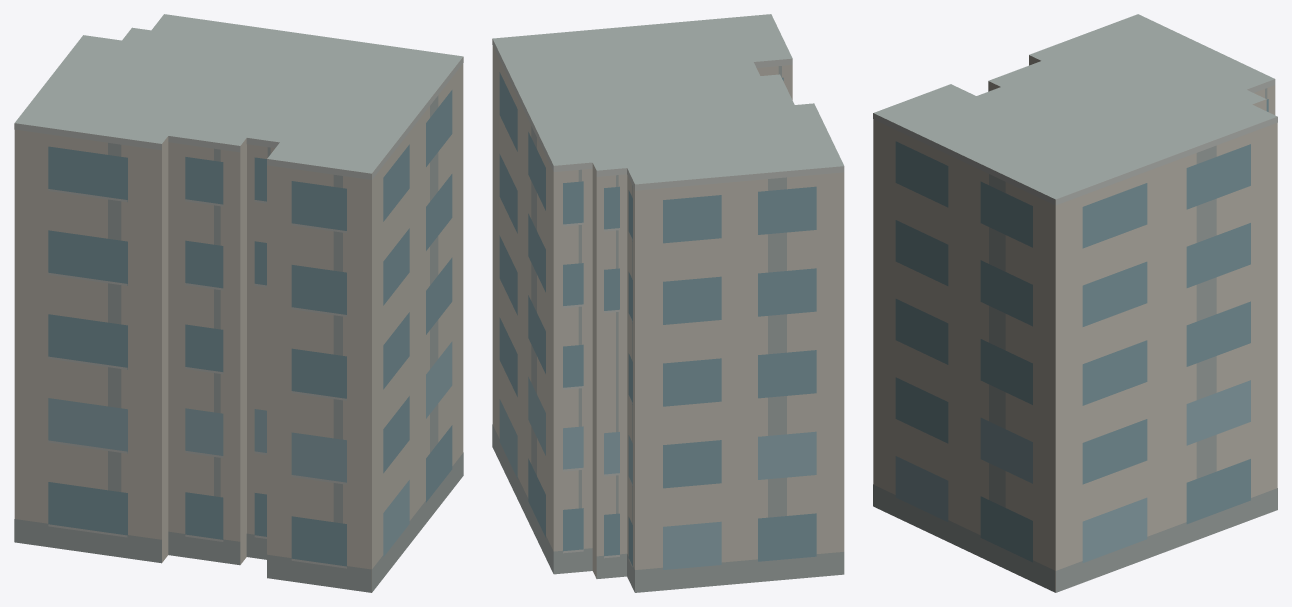
Rendered from survey-upis-32786541.glb.
3 views of the same model, side by side, from view 1: azimuth 30°, elevation 25°; view 2: azimuth 150°, elevation 25°; view 3: azimuth 270°, elevation 25° (orthographic). The views are drawn at different scales.
Parts seen in each view (by area): view 1: survey-upis-32786541.tmp; view 2: survey-upis-32786541.tmp; view 3: survey-upis-32786541.tmp.
Part boxes in pixels (<box>): survey-upis-32786541.tmp: <box>14,14,463,592</box>; survey-upis-32786541.tmp: <box>492,14,844,592</box>; survey-upis-32786541.tmp: <box>873,14,1277,592</box>.
Size of the model in its own units: 16.09 by 15.9 by 14.82.
